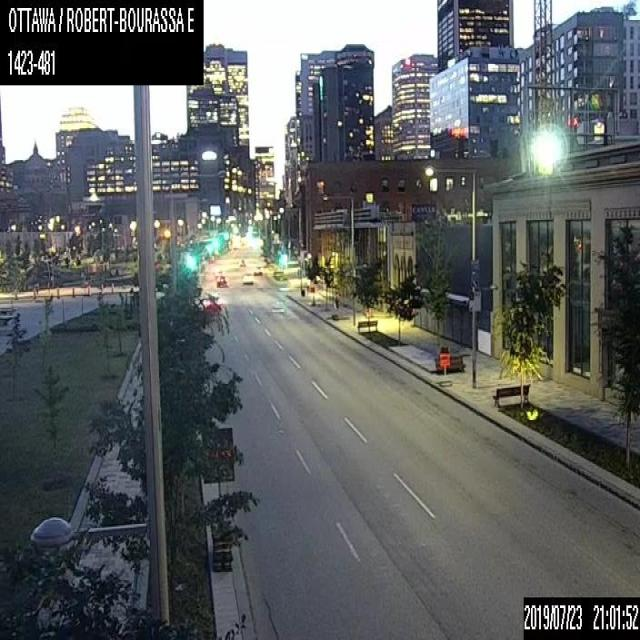construction: (198, 427, 234, 571), (438, 350, 450, 382)
vehicle: (241, 271, 253, 284), (216, 274, 227, 286), (253, 264, 262, 274), (239, 258, 246, 266)
